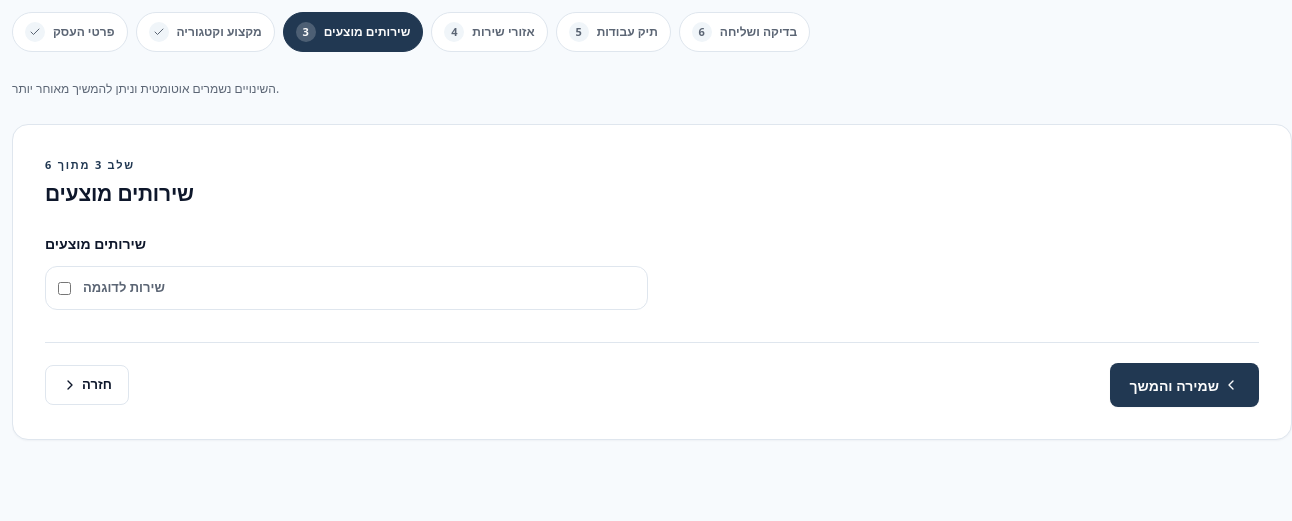
it: SupplierOnboardingWizard stage validation › still requires a service selection when managed services are available
Click the button "שמירה והמשך": point(1184, 385) 1110,363 -> 1259,407
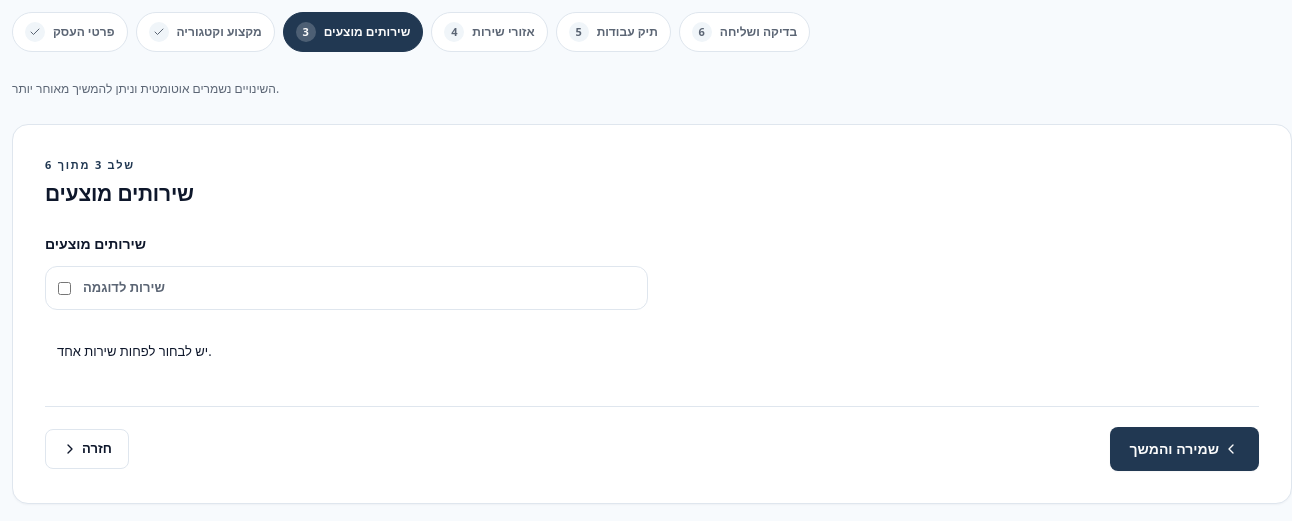
Expected: the message reads "יש לבחור לפחות שירות אחד.", 57,342 -> 212,360
